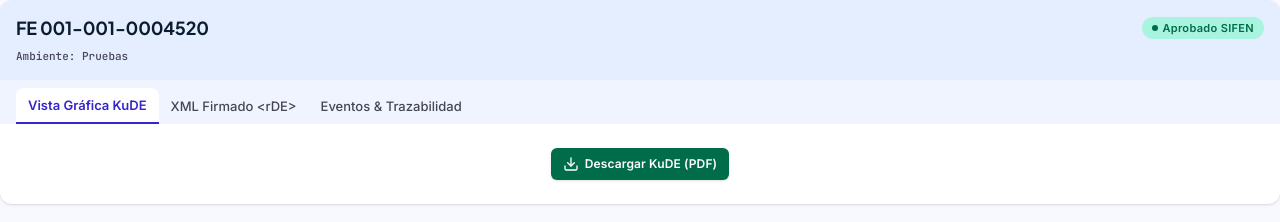
Test case: DocumentsDetail tabs › says so when the XML does not exist yet
Click the tab "XML Firmado <rDE>": (234, 106) [158, 89, 308, 123]
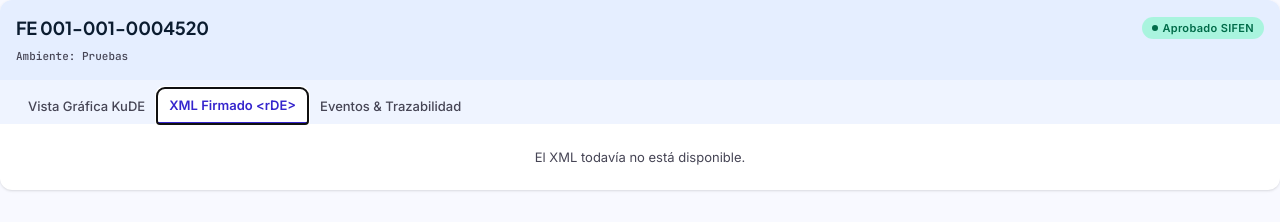
Now the text "El XML todavía no está disponible." is shown, box [535, 149, 745, 165]
